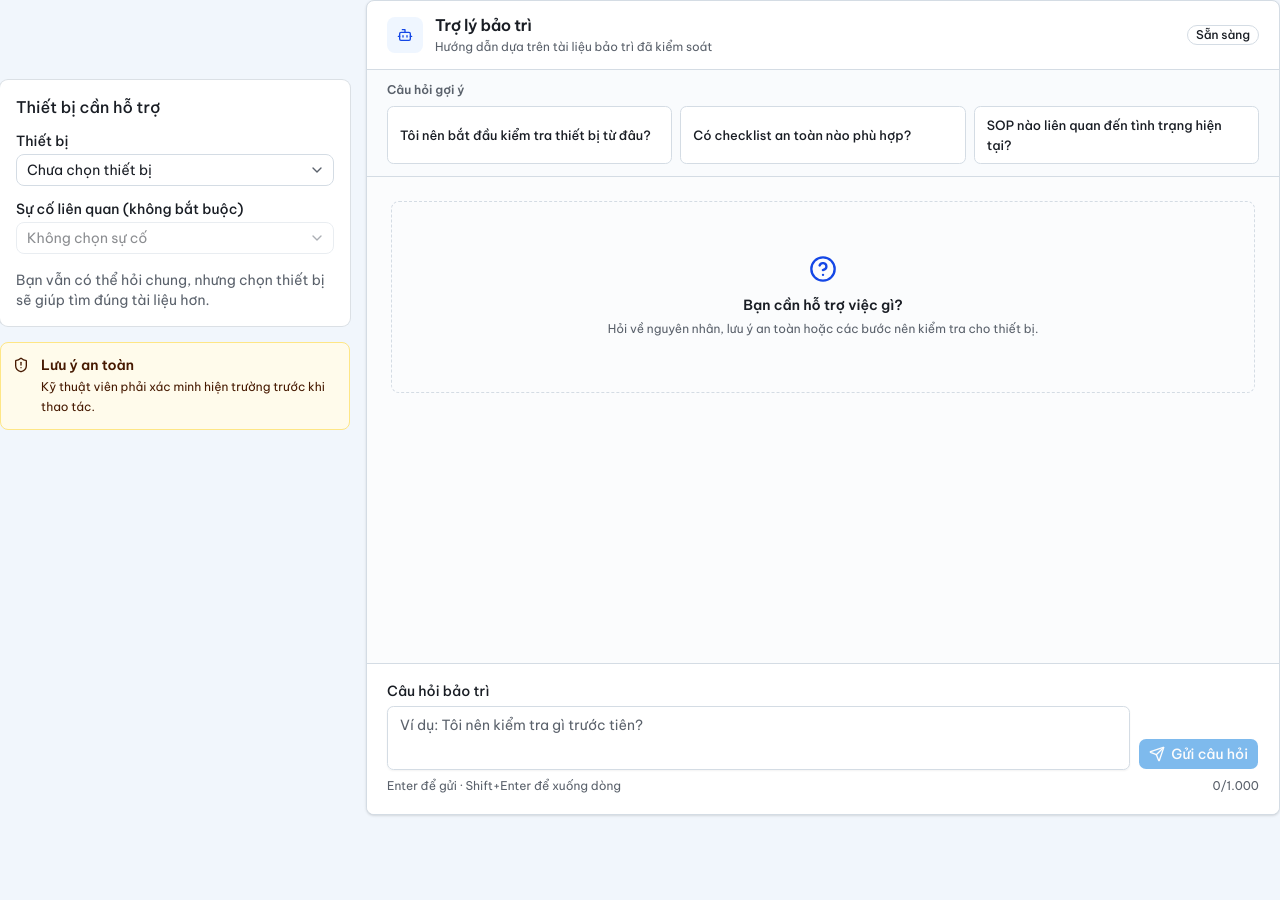
Test: live Copilot workspace › renders a bounded LLM conversation without maintenance evidence warnings
Type "xin chào" into the text box labelled "Câu hỏi bảo trì" at [759, 738], box [387,706,1130,770]
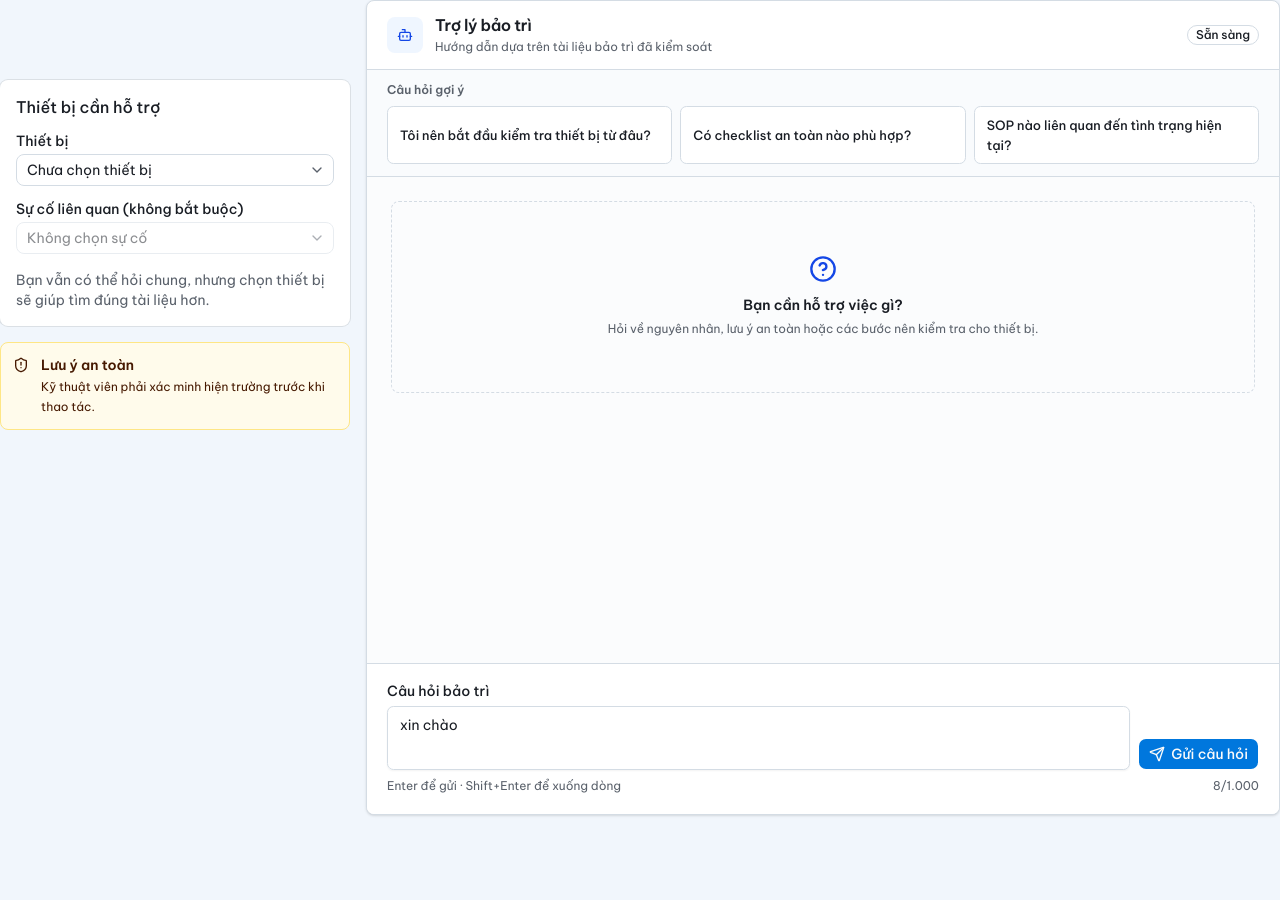
Press Enter in the text box labelled "Câu hỏi bảo trì", box [387,706,1130,770]
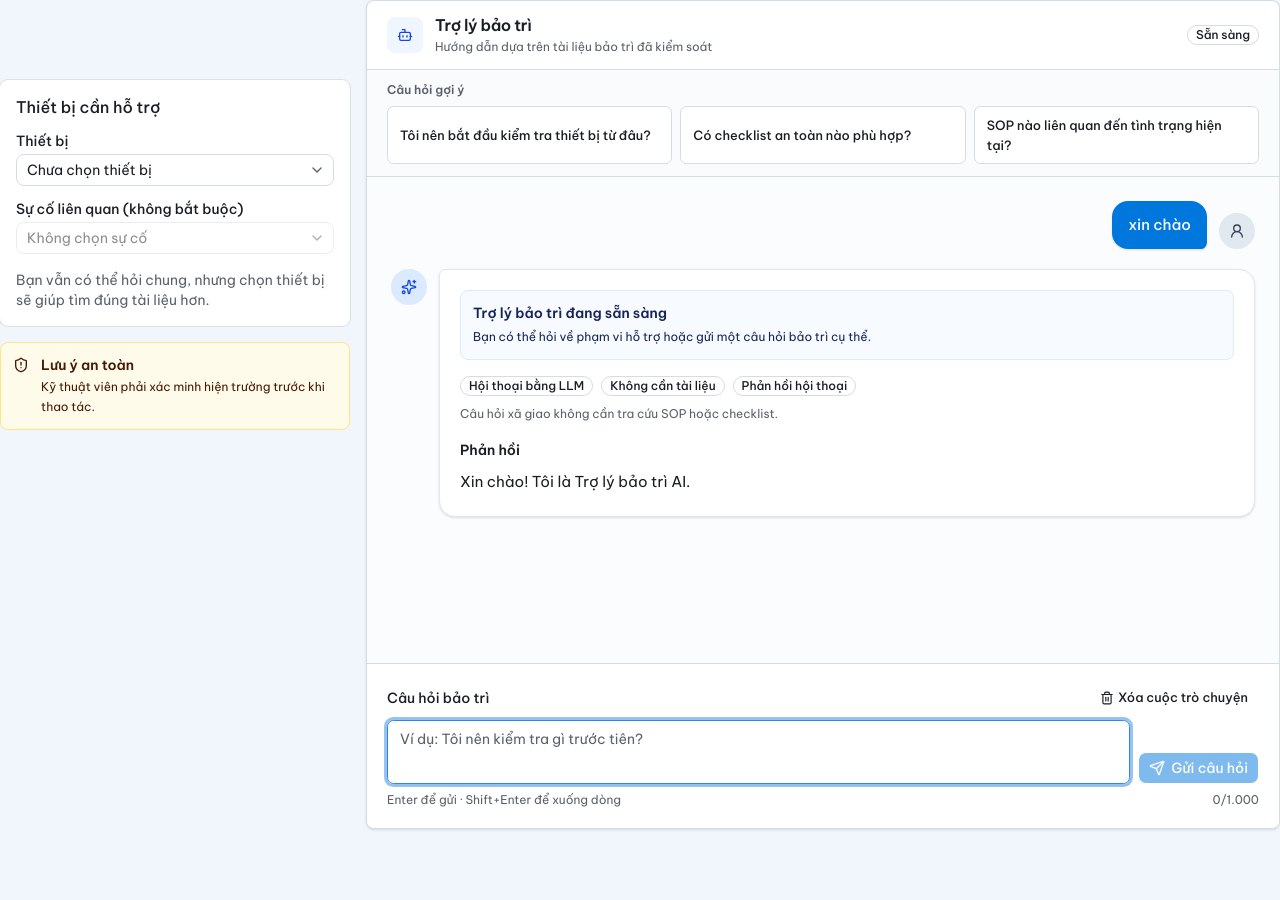
Expected: the text "Xin chào! Tôi là Trợ lý bảo trì AI." is shown, [460,472,690,491]
Expected: the text "Hội thoại bằng LLM" is shown, [460,376,593,396]
Expected: the text "Không cần tài liệu" is shown, [601,376,724,396]
